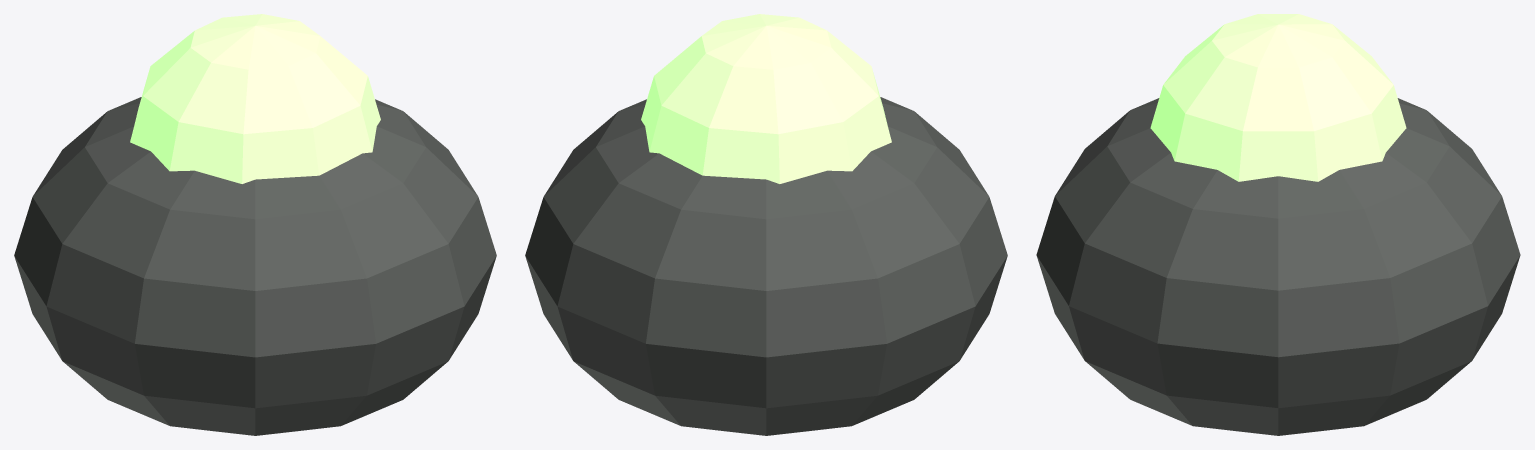
Rendered from cauldron.glb.
The picture shows the model from 3 angles, left to right: view 1: azimuth 30°, elevation 25°; view 2: azimuth 150°, elevation 25°; view 3: azimuth 270°, elevation 25°; orthographic projection.
Visible parts, largest first — view 1: cauldron; view 2: cauldron; view 3: cauldron.
Part boxes in pixels (box(x1,y1,x2,y2)): cauldron: box(14, 14, 496, 435); cauldron: box(525, 14, 1007, 435); cauldron: box(1036, 14, 1520, 435).
Bounding box in the file's own units: 0.8 × 0.7 × 0.8.
